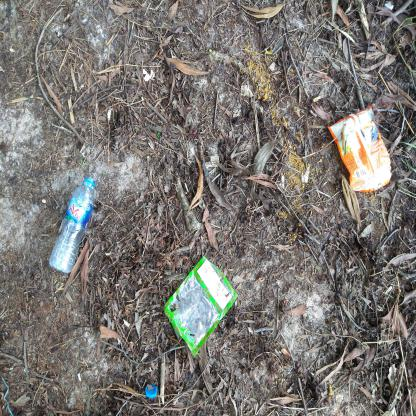plastik: (162, 256, 238, 358), (326, 106, 392, 192), (48, 176, 96, 272), (146, 384, 158, 398)
